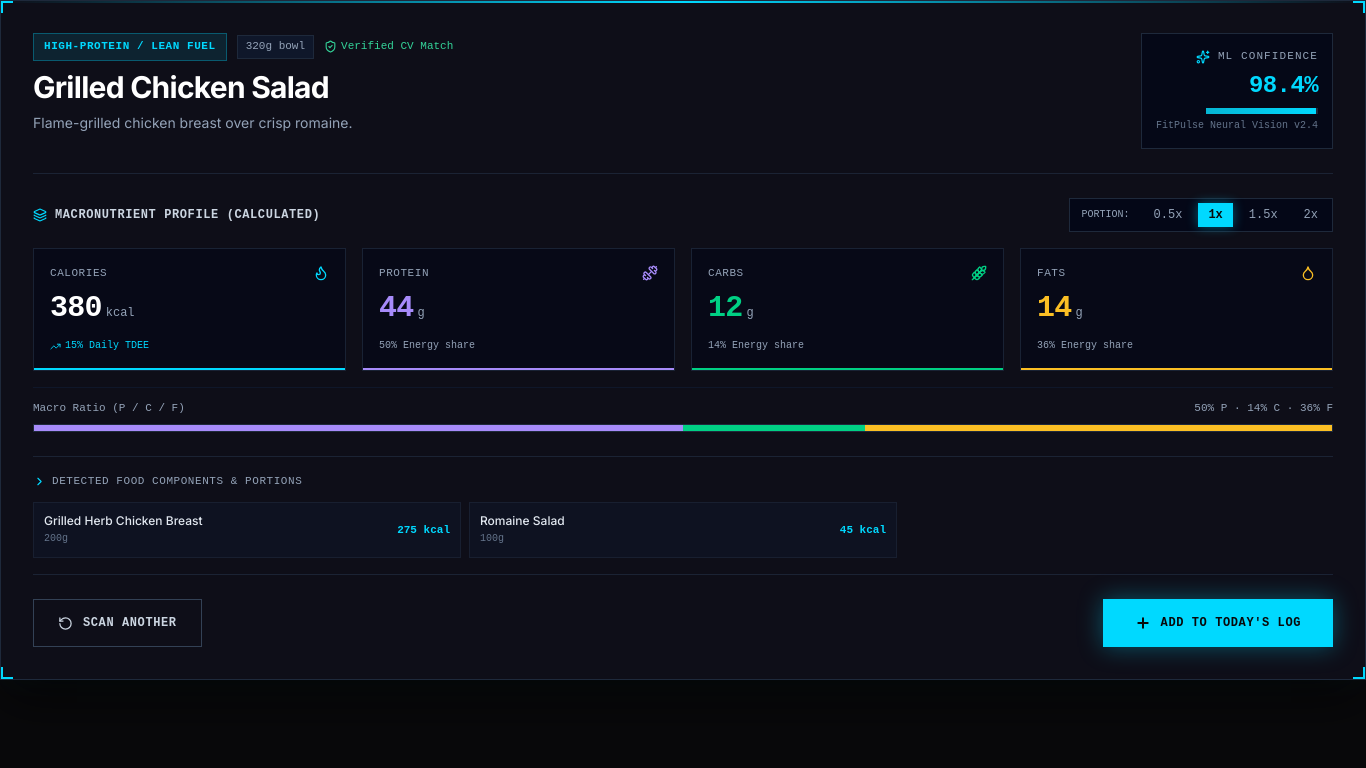
ScanResult Component › scales calories and macros when portion multiplier is clicked
Expected: the text "380" is shown, [50,290,102,326]
# Click 2.0x multiplier
Click the button "2x": (1311, 215) [1294,203,1328,227]
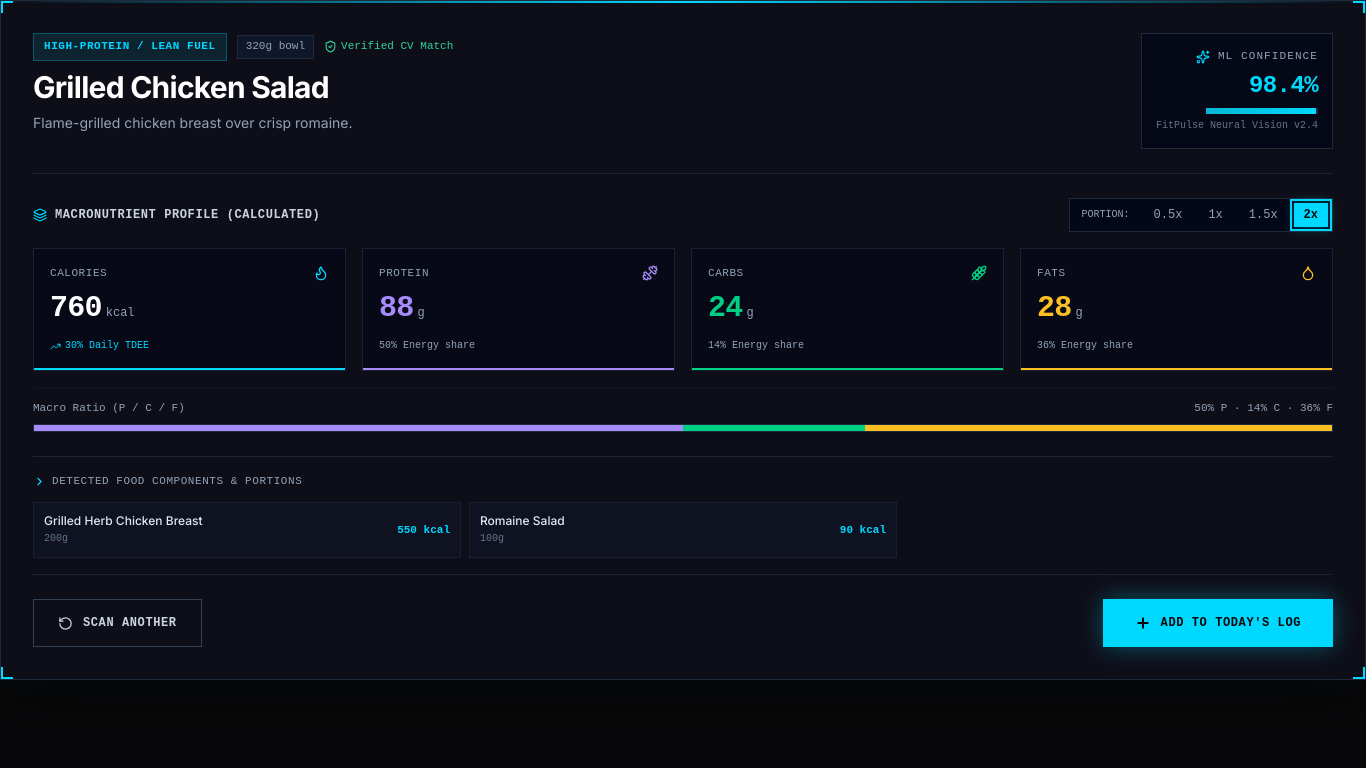
Now the text "760" is shown, box [50,290,102,326]
Now the text "88" is shown, box [379,290,414,326]
